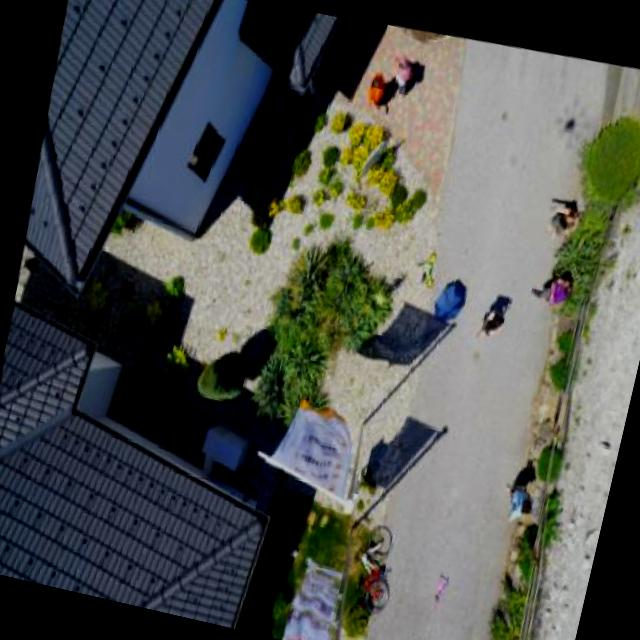Person: (532, 183, 583, 243), (487, 470, 537, 529), (350, 53, 398, 114), (521, 258, 579, 306), (375, 35, 417, 101), (468, 296, 505, 340)
